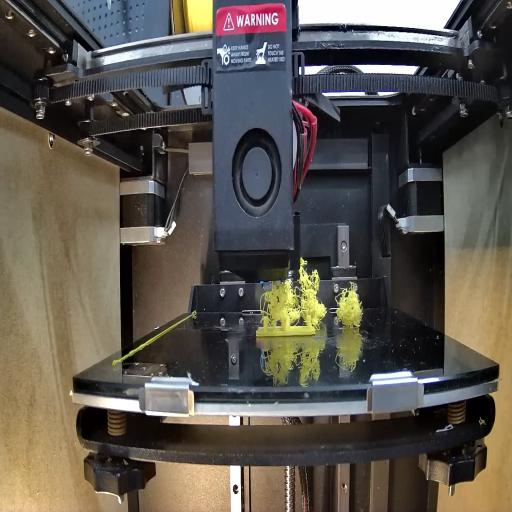spaghetti: (260, 255, 326, 323), (333, 285, 367, 325)
